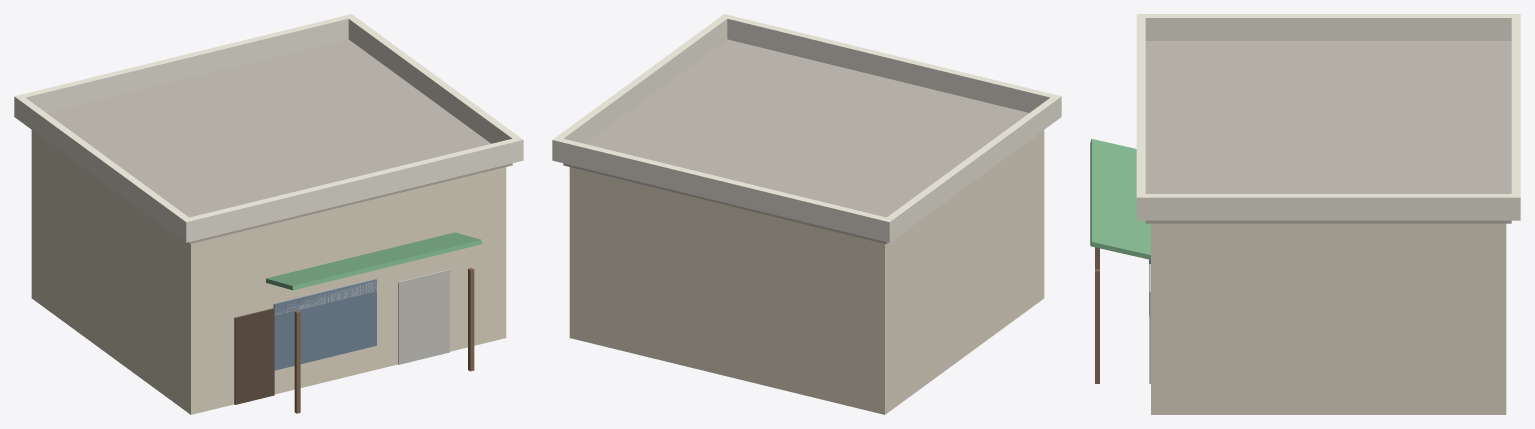
The model's file is shop_creme_vert.glb.
The picture shows the model from 3 angles, left to right: view 1: azimuth 30°, elevation 25°; view 2: azimuth 150°, elevation 25°; view 3: azimuth 270°, elevation 25°; orthographic projection. The views are drawn at different scales.
Visible parts, largest first — view 1: shopA_mur, shopA_dalle, shopA_p1, shopA_p2, shopA_vitrine, shopA_p4, shopA_p3, shopA_volet, shopA_store, shopA_porte, shopA_reflet, shopA_pot2 (+1 smaller); view 2: shopA_mur, shopA_dalle, shopA_p2, shopA_p1, shopA_p4, shopA_p3; view 3: shopA_mur, shopA_dalle, shopA_p3, shopA_p4, shopA_store, shopA_p1, shopA_p2, shopA_pot2.
Part boxes in pixels (left/top/right/bottom): shopA_mur: left=31, top=130, right=506, bottom=414; shopA_dalle: left=47, top=39, right=512, bottom=244; shopA_p1: left=182, top=137, right=523, bottom=242; shopA_p2: left=14, top=14, right=355, bottom=119; shopA_vitrine: left=273, top=279, right=376, bottom=370; shopA_p4: left=18, top=97, right=188, bottom=239; shopA_p3: left=348, top=17, right=518, bottom=143; shopA_volet: left=398, top=269, right=449, bottom=364; shopA_store: left=266, top=232, right=481, bottom=290; shopA_porte: left=234, top=308, right=274, bottom=404; shopA_reflet: left=274, top=281, right=376, bottom=315; shopA_pot2: left=468, top=268, right=474, bottom=371; shopA_mur: left=569, top=130, right=1044, bottom=414; shopA_dalle: left=563, top=39, right=1028, bottom=244; shopA_p2: left=552, top=137, right=893, bottom=242; shopA_p1: left=720, top=14, right=1061, bottom=119; shopA_p4: left=887, top=97, right=1057, bottom=239; shopA_p3: left=557, top=17, right=727, bottom=143; shopA_mur: left=1151, top=223, right=1506, bottom=414; shopA_dalle: left=1145, top=41, right=1511, bottom=223; shopA_p3: left=1145, top=194, right=1511, bottom=220; shopA_p4: left=1145, top=14, right=1511, bottom=40; shopA_store: left=1090, top=139, right=1150, bottom=259; shopA_p1: left=1136, top=14, right=1145, bottom=220; shopA_p2: left=1511, top=14, right=1520, bottom=220; shopA_pot2: left=1095, top=269, right=1099, bottom=383.
Bounding box in the file's own units: 8.56 × 4.85 × 8.47.
